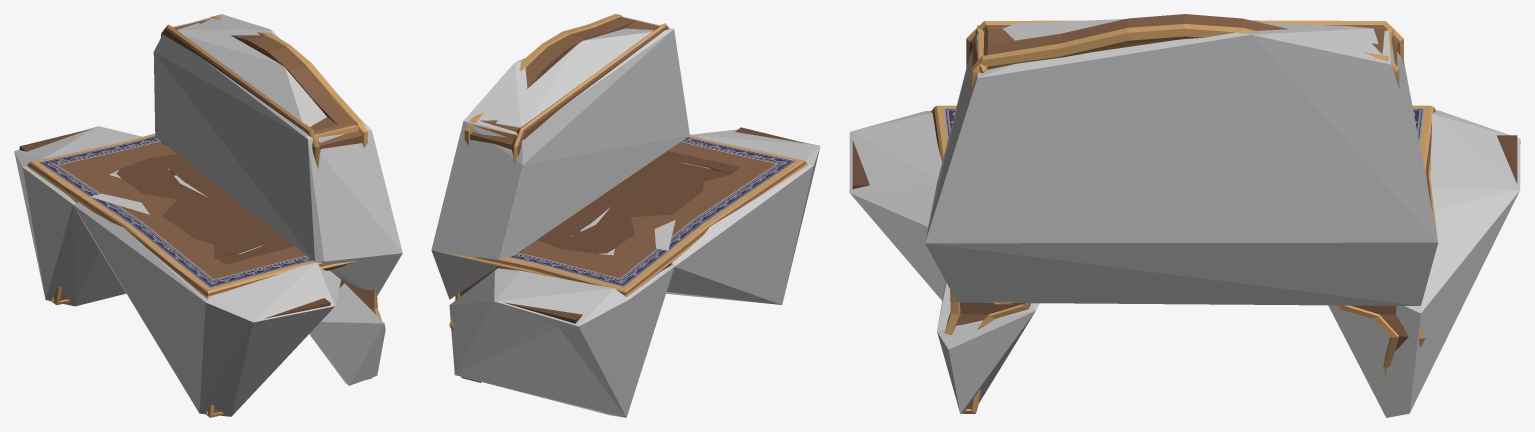
The model's file is SM_Prop_Desk_02.fbx.
3 renders of one model, left to right at view 1: azimuth 30°, elevation 25°; view 2: azimuth 150°, elevation 25°; view 3: azimuth 270°, elevation 25°, orthographic. The views are drawn at different scales.
Visible parts, largest first — view 1: SM_Prop_Desk_02_ConvexHulls, SM_Prop_Desk_02; view 2: SM_Prop_Desk_02_ConvexHulls, SM_Prop_Desk_02; view 3: SM_Prop_Desk_02_ConvexHulls, SM_Prop_Desk_02.
Part boxes in pixels (x1,y1,x2,y2): SM_Prop_Desk_02_ConvexHulls: (14, 14, 402, 416); SM_Prop_Desk_02: (19, 15, 381, 417); SM_Prop_Desk_02_ConvexHulls: (431, 28, 820, 417); SM_Prop_Desk_02: (437, 14, 808, 414); SM_Prop_Desk_02_ConvexHulls: (849, 19, 1520, 417); SM_Prop_Desk_02: (852, 14, 1517, 413).
Bounding box in the file's own units: 130 × 274 × 177.
2 materials, 1 textured.
